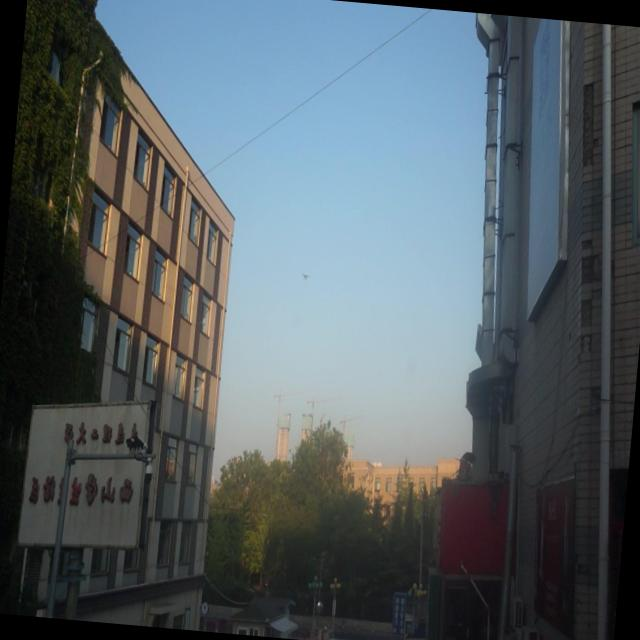drone: (298, 266, 312, 285)
